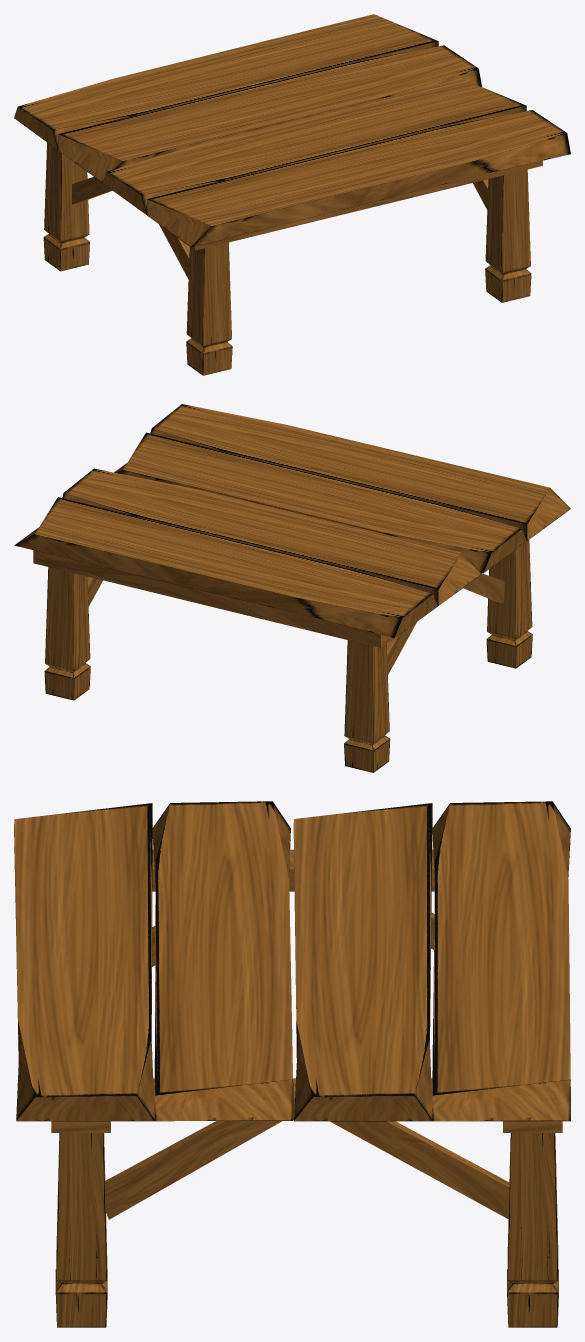
Rendered from tafel.glb.
3 views of the same model, one above another, from view 1: azimuth 30°, elevation 25°; view 2: azimuth 150°, elevation 25°; view 3: azimuth 270°, elevation 25° (orthographic). The views are drawn at different scales.
Parts seen in each view (by area): view 1: Cube.008, Cube.007, Cube.009, Cube.002, Cube.003, Cube.006, Cube.004, Cube.005, Cube.010; view 2: Cube.002, Cube.009, Cube.007, Cube.008, Cube.001, Cube.004, Cube.005, Cube.003, Cube.010; view 3: Cube.002, Cube.009, Cube.007, Cube.008, Cube.010, Cube.006, Cube.001, Cube.005.
Part boxes in pixels (left/top/right/bottom): Cube.008: left=146, top=110, right=570, bottom=247; Cube.007: left=58, top=45, right=481, bottom=182; Cube.009: left=103, top=78, right=526, bottom=214; Cube.002: left=14, top=14, right=438, bottom=149; Cube.003: left=186, top=242, right=232, bottom=375; Cube.006: left=485, top=169, right=531, bottom=302; Cube.004: left=43, top=142, right=89, bottom=271; Cube.005: left=177, top=160, right=542, bottom=250; Cube.010: left=72, top=177, right=488, bottom=279; Cube.002: left=14, top=497, right=438, bottom=638; Cube.009: left=114, top=432, right=526, bottom=573; Cube.007: left=62, top=468, right=481, bottom=605; Cube.008: left=150, top=404, right=570, bottom=540; Cube.001: left=44, top=567, right=90, bottom=700; Cube.004: left=344, top=640, right=390, bottom=772; Cube.005: left=33, top=550, right=393, bottom=647; Cube.003: left=486, top=540, right=532, bottom=668; Cube.010: left=87, top=573, right=504, bottom=674; Cube.002: left=432, top=801, right=570, bottom=1121; Cube.009: left=152, top=801, right=293, bottom=1121; Cube.007: left=293, top=803, right=432, bottom=1121; Cube.008: left=14, top=803, right=154, bottom=1121; Cube.010: left=105, top=912, right=509, bottom=1219; Cube.006: left=55, top=1133, right=107, bottom=1327; Cube.001: left=507, top=1133, right=558, bottom=1327; Cube.005: left=51, top=849, right=562, bottom=1132.
Size of the model in its own units: 2.42 by 0.9643 by 1.92.
3 materials, 3 textured.
